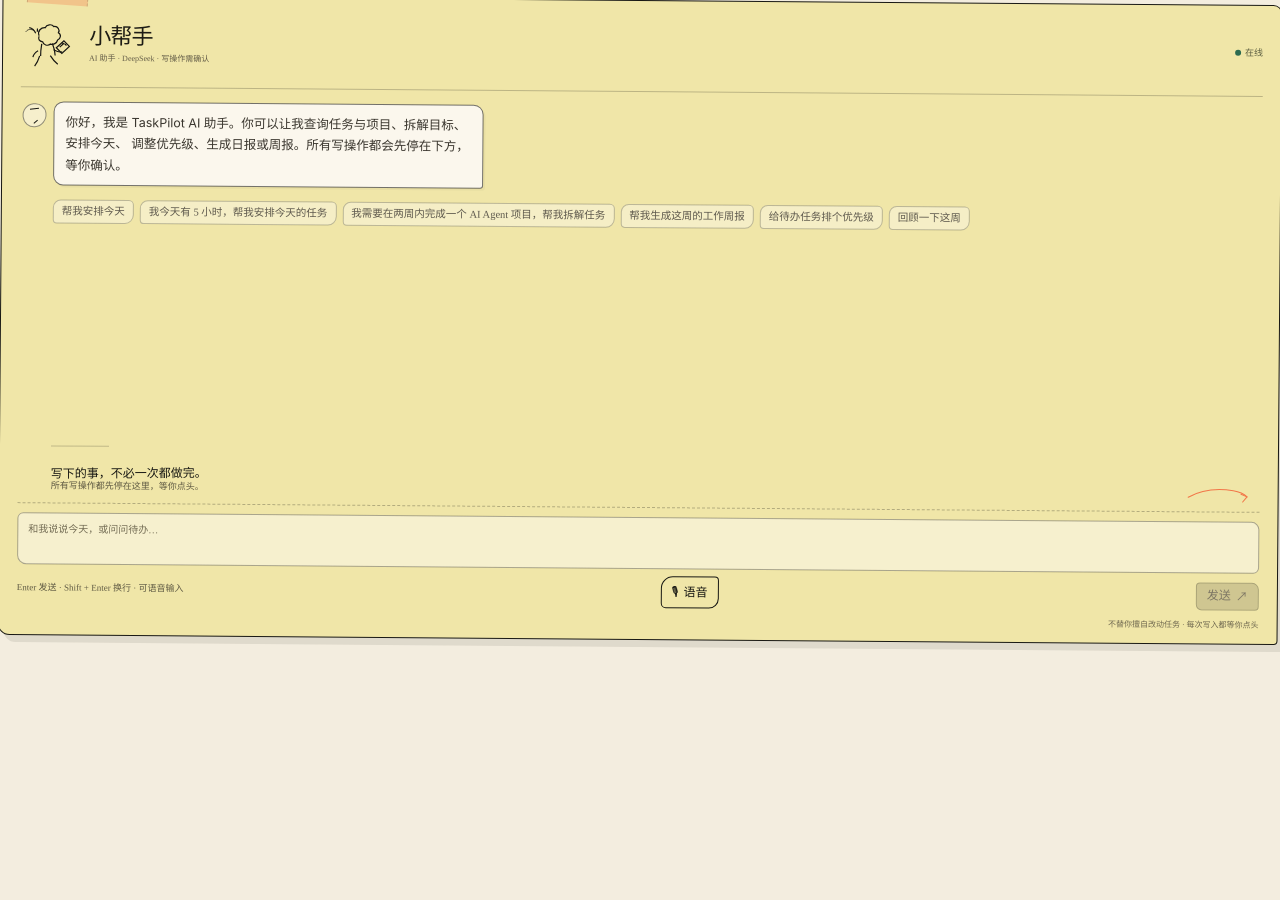
Test: AssistantPanel › displays a safe stream error without crashing the page
In the text box named "给 AI 助手发送消息": (638, 543) [17,512,1260,574], type "查询任务"
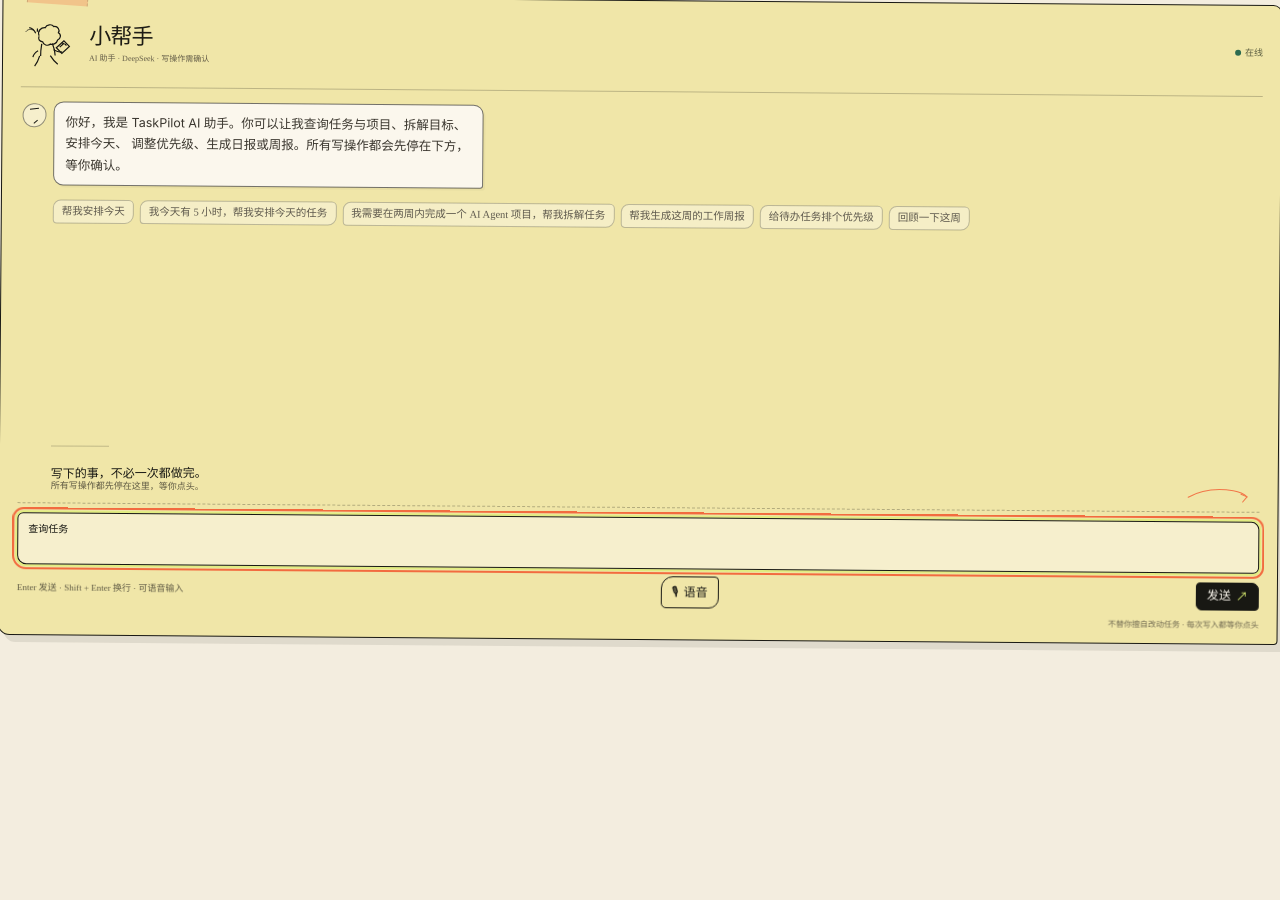
Click the button "发送 ↗": (1227, 597) [1196,583,1259,611]
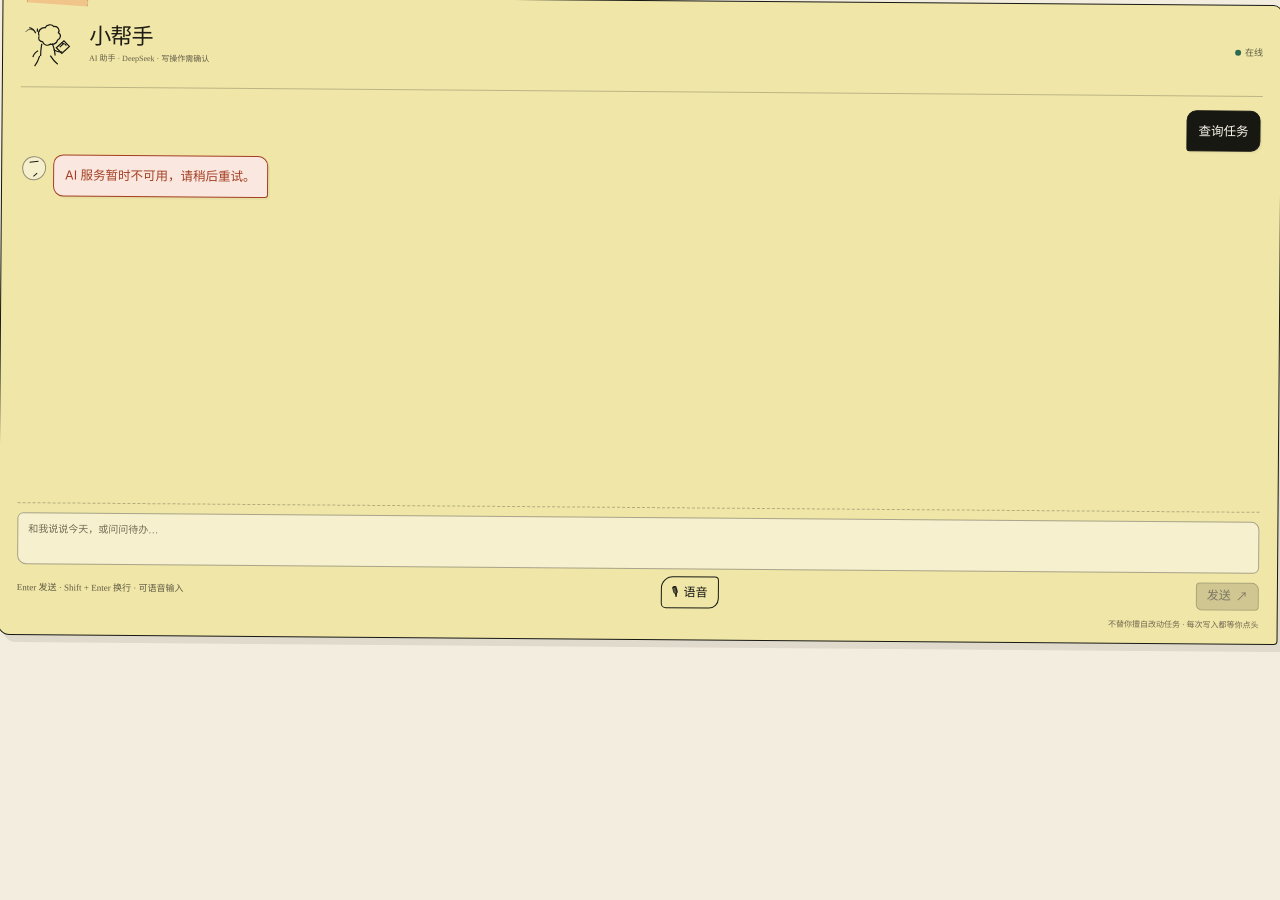
Expected: the text box named "给 AI 助手发送消息" is enabled, [17,512,1260,574]
Expected: the text "AI 服务暂时不可用，请稍后重试。" is shown, [65,165,256,187]
